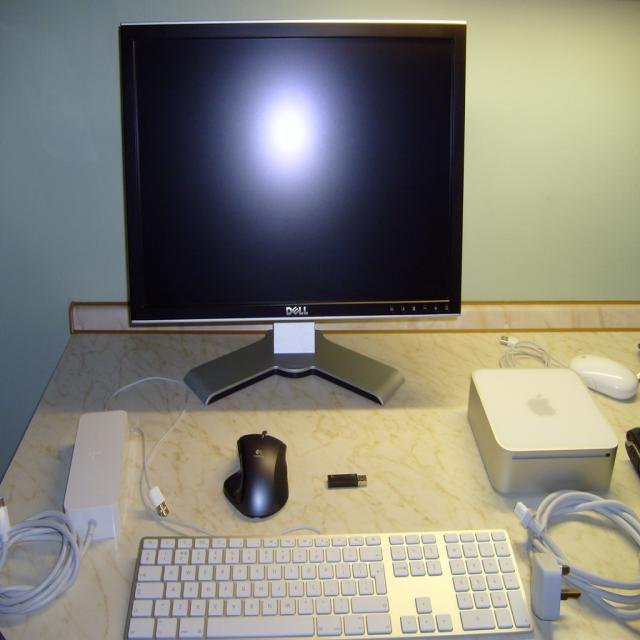Computer-mouse: (224, 428, 288, 522)
